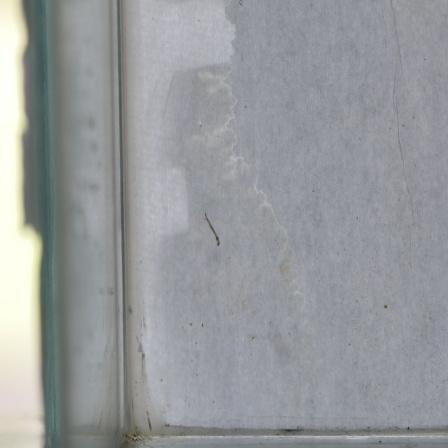Jentik-Nyamuk: (201, 208, 225, 251)
